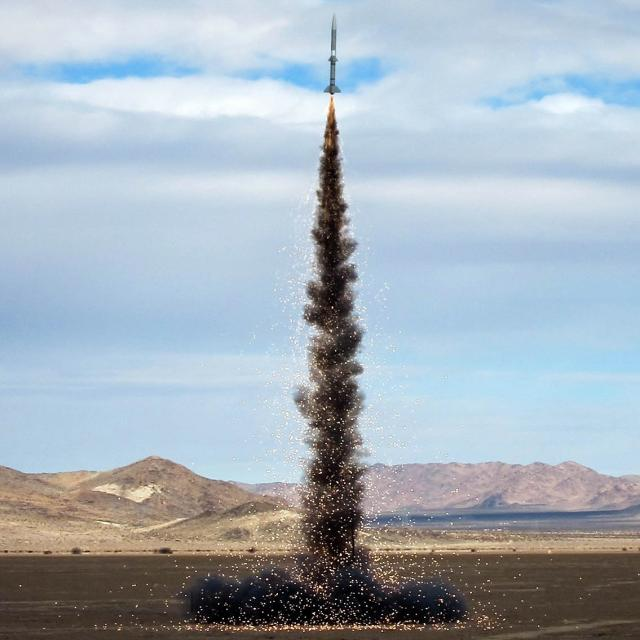Rocket: (322, 12, 342, 96)
